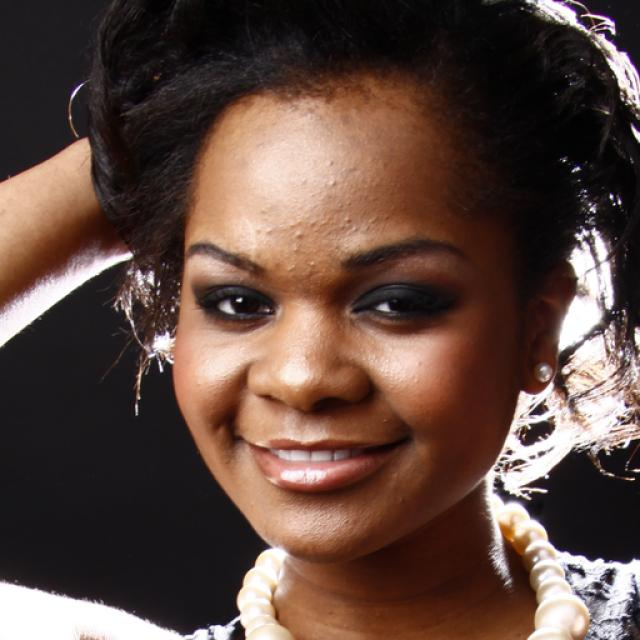Acne: (275, 242, 308, 276), (284, 214, 309, 241), (333, 215, 363, 232), (253, 219, 277, 240)
